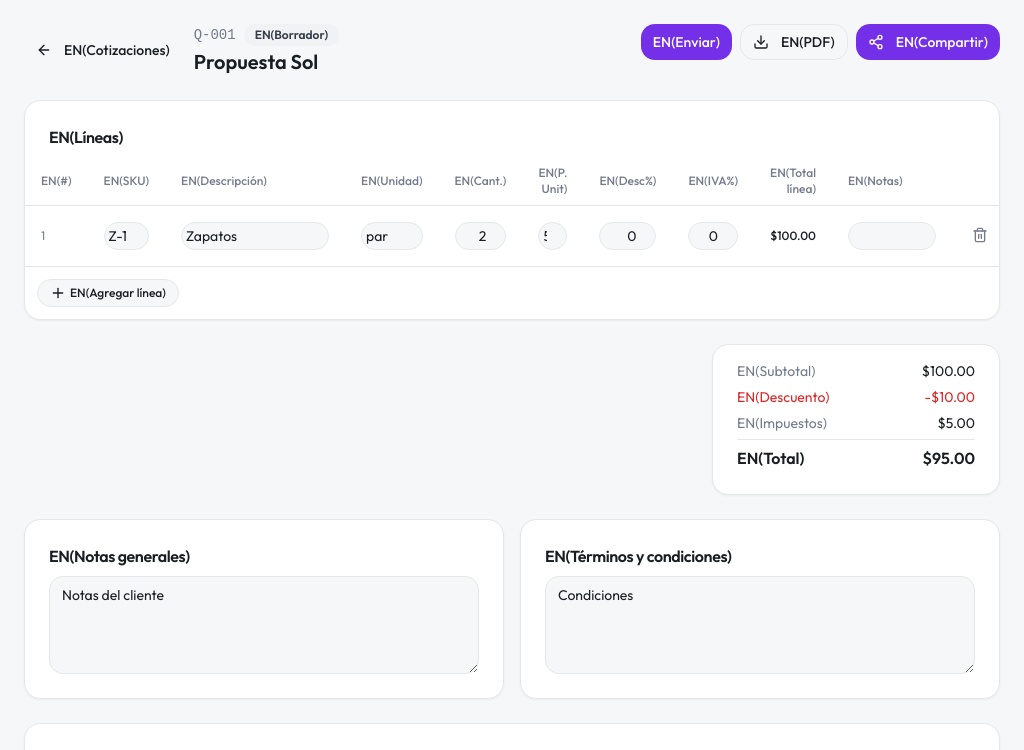
Test: QuoteDetail, in a second language › has no string left outside the catalogue in the share dialog
Click the button "EN(Compartir)" at coordinates (928, 42), box [856,24,1000,60]
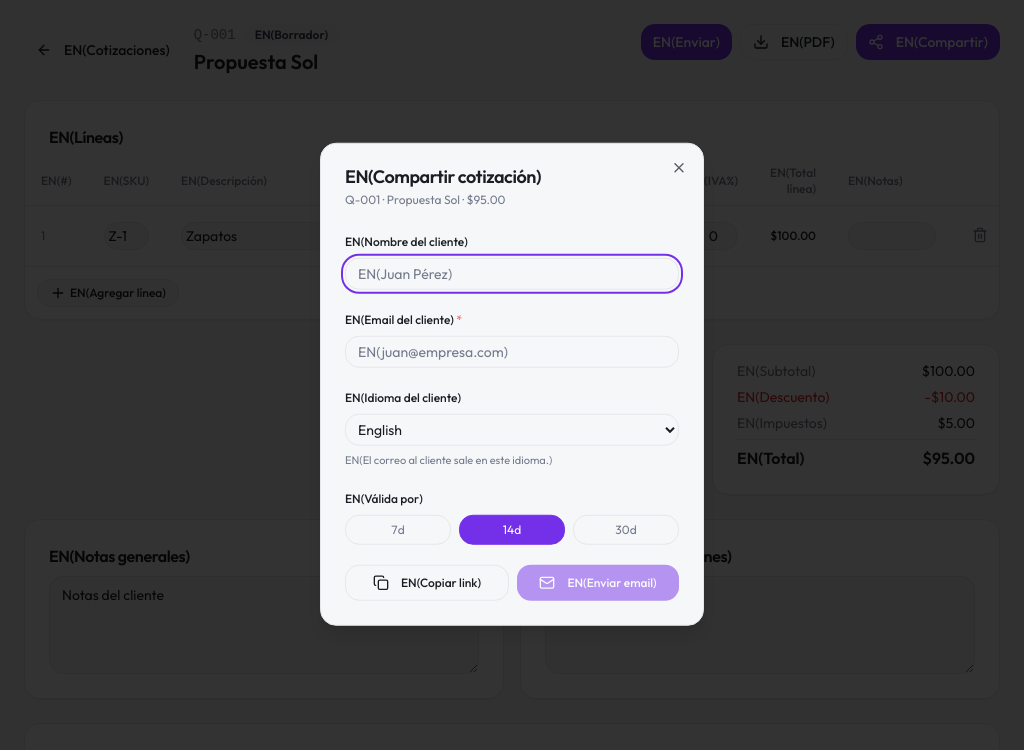
Expected: the button "7d" is shown, [345,514,451,544]
